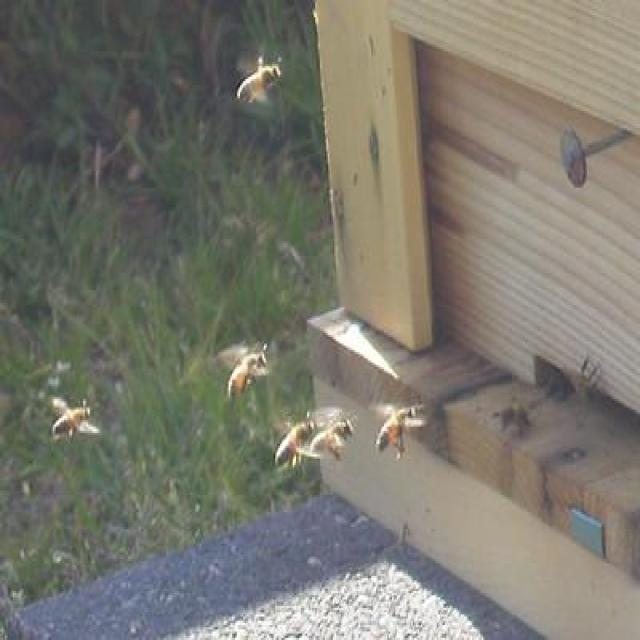honeybee: (373, 392, 427, 463), (236, 40, 284, 110), (49, 390, 106, 447), (222, 343, 269, 404), (275, 414, 311, 479), (312, 410, 352, 465)
